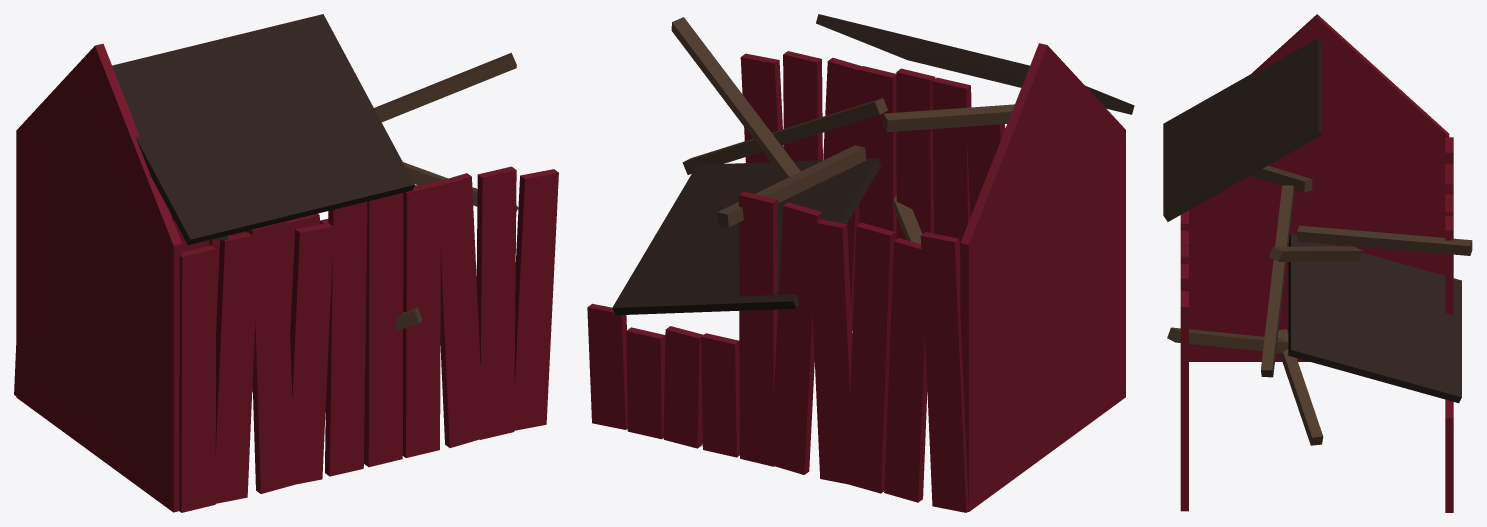
The model's file is barn_collapsed.glb.
3 views of the same model, side by side, from view 1: azimuth 30°, elevation 25°; view 2: azimuth 150°, elevation 25°; view 3: azimuth 270°, elevation 25° (orthographic). The views are drawn at different scales.
Parts seen in each view (by area): view 1: barn_collapsed; view 2: barn_collapsed; view 3: barn_collapsed.
Boxes of the visible parts, x1,y1,x2,y2 form: barn_collapsed: [14, 14, 558, 512]; barn_collapsed: [587, 14, 1134, 512]; barn_collapsed: [1163, 14, 1472, 512].
Size of the model in its own units: 2.34 by 2.3 by 1.87.
